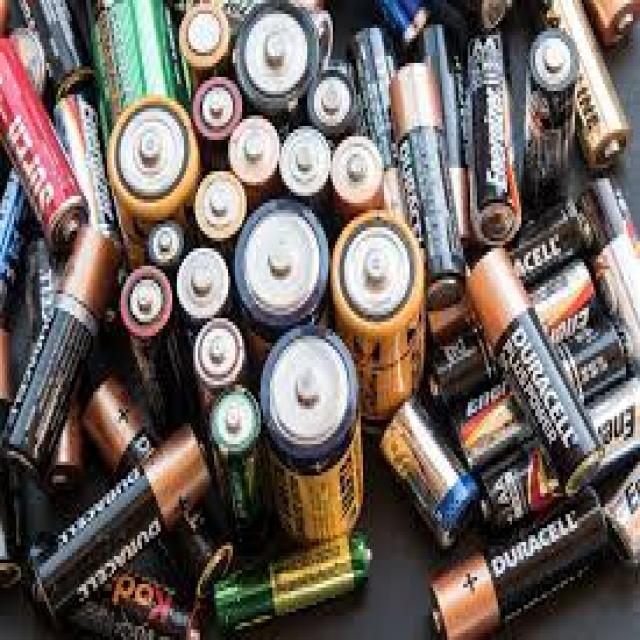non-organic waste: (28, 419, 215, 625), (468, 244, 604, 496), (0, 223, 125, 486), (430, 478, 612, 640), (463, 312, 630, 473), (479, 378, 640, 540), (262, 324, 366, 548), (332, 211, 430, 440), (0, 31, 96, 263), (384, 59, 468, 312), (380, 391, 483, 554), (539, 0, 633, 174), (215, 534, 372, 634), (575, 168, 640, 378), (461, 33, 522, 247), (522, 29, 579, 221)
